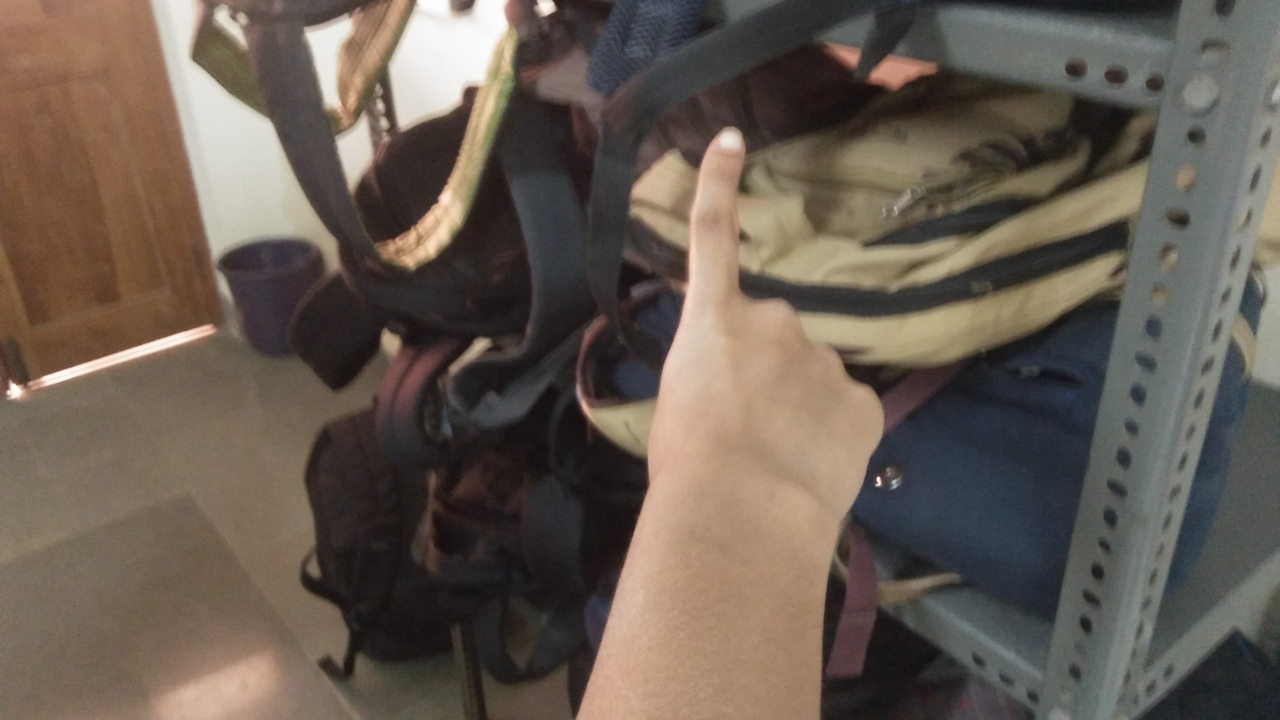fingertip: (694, 116, 758, 170)
